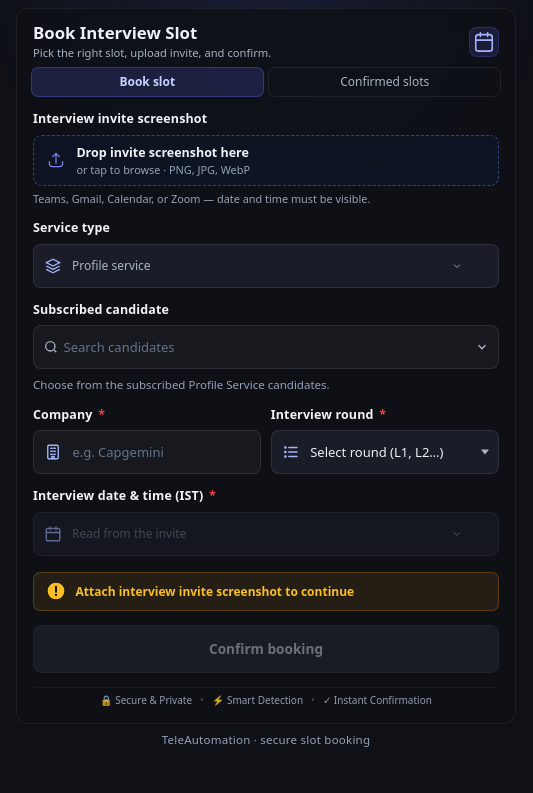
Test: the client is chosen from the subscribed list › can be chosen from the keyboard
The image size is (533, 793).
Focus the field labelled "Profile Service candidate" at {"x": 266, "y": 347}, box x1=33 y1=325 x2=499 y2=369
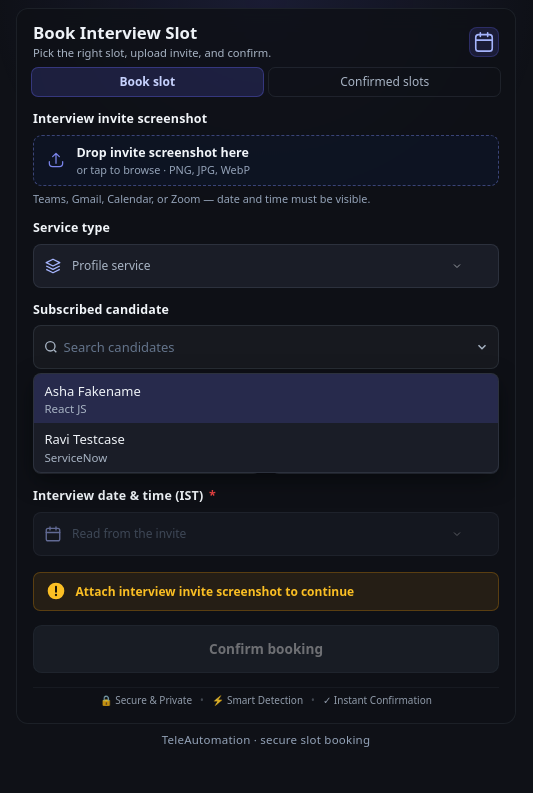
Press ArrowDown in the field named "Profile Service candidate", box x1=33 y1=325 x2=499 y2=369
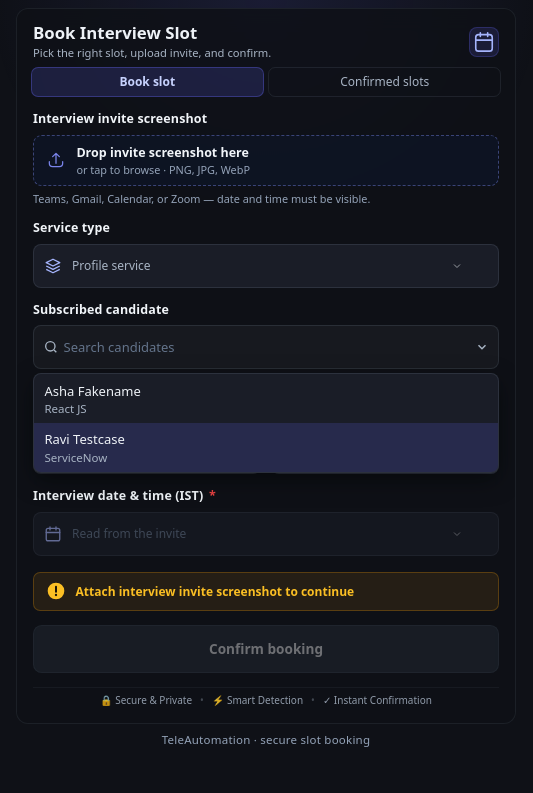
Press Enter in the field named "Profile Service candidate", box x1=33 y1=325 x2=499 y2=369
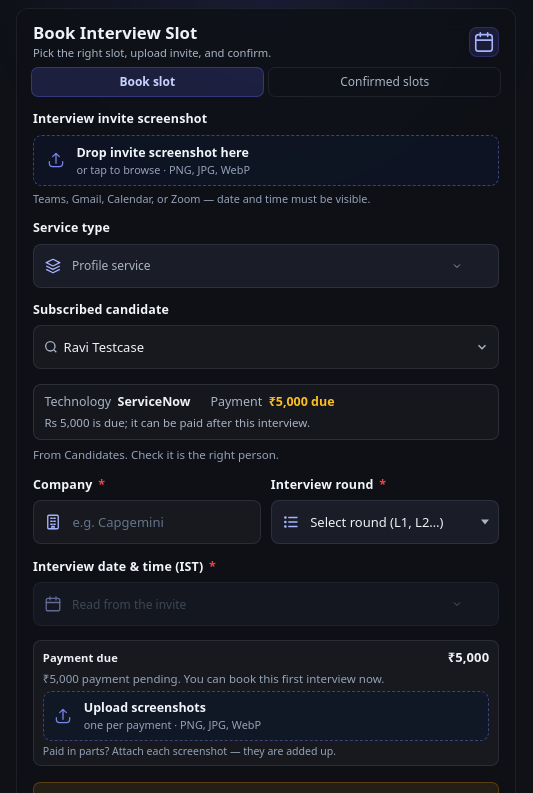
Check: the field named "Profile Service candidate" holds "Ravi Testcase", box x1=33 y1=325 x2=499 y2=369
